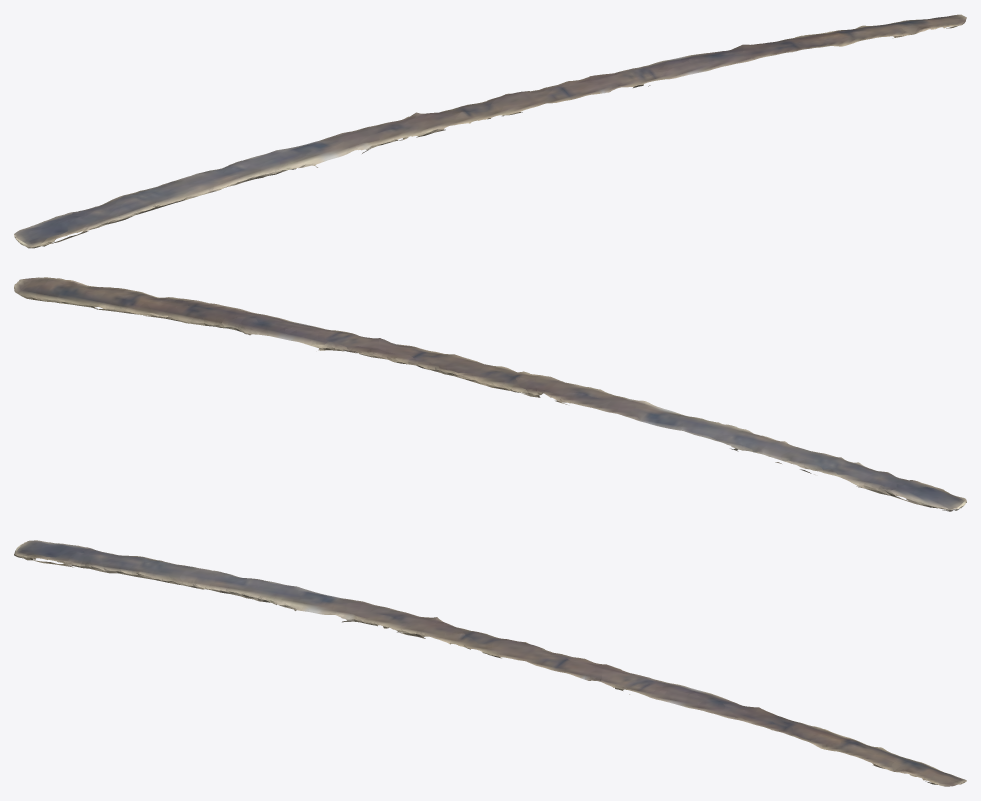
3 views of the same model, one above another, from view 1: azimuth 30°, elevation 25°; view 2: azimuth 150°, elevation 25°; view 3: azimuth 330°, elevation 25° (orthographic).
Parts seen in each view (by area): view 1: mesh; view 2: mesh; view 3: mesh.
Part boxes in pixels (x1,y1,x2,y2): mesh: (14, 14, 966, 248); mesh: (14, 277, 966, 511); mesh: (14, 540, 966, 786).
Bounding box in the file's own units: 0.3331 × 0.0111 × 0.0125.
Materials: 1 (1 with a texture image).
